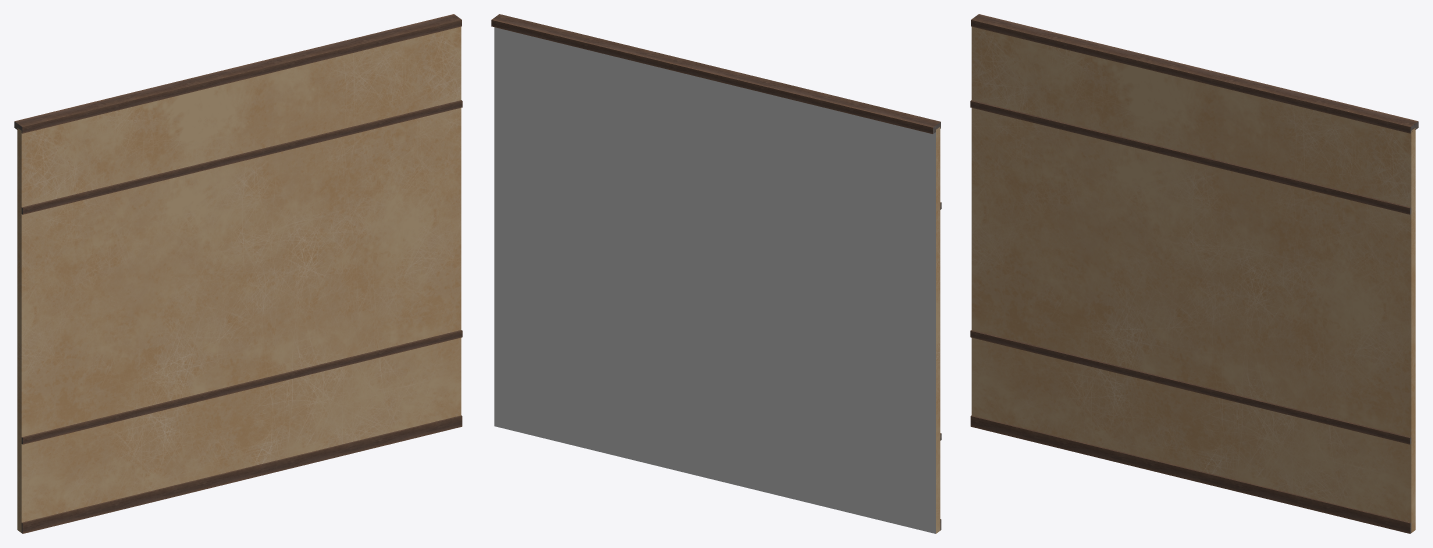
File: outwall01_1.5t.fbx
3 views of the same model, side by side, from view 1: azimuth 30°, elevation 25°; view 2: azimuth 150°, elevation 25°; view 3: azimuth 330°, elevation 25° (orthographic).
Visible parts, largest first — view 1: outwall01_1.5t; view 2: outwall01_1.5t; view 3: outwall01_1.5t.
Part boxes in pixels (x1=…): outwall01_1.5t: x1=14, y1=14, x2=462, y2=533; outwall01_1.5t: x1=491, y1=14, x2=941, y2=533; outwall01_1.5t: x1=970, y1=14, x2=1418, y2=533.
Size of the model in its own units: 330 by 292 by 11.05.
